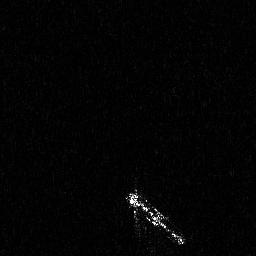ship: (123, 181, 186, 247)
